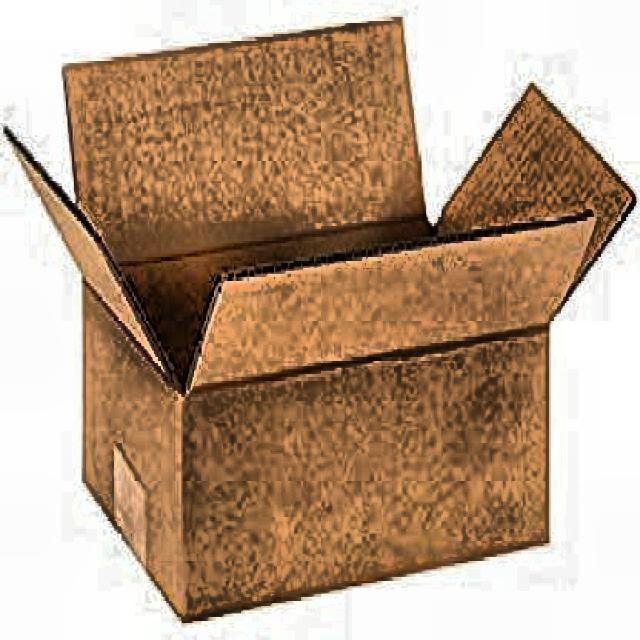Cardbox: (24, 0, 613, 615)
